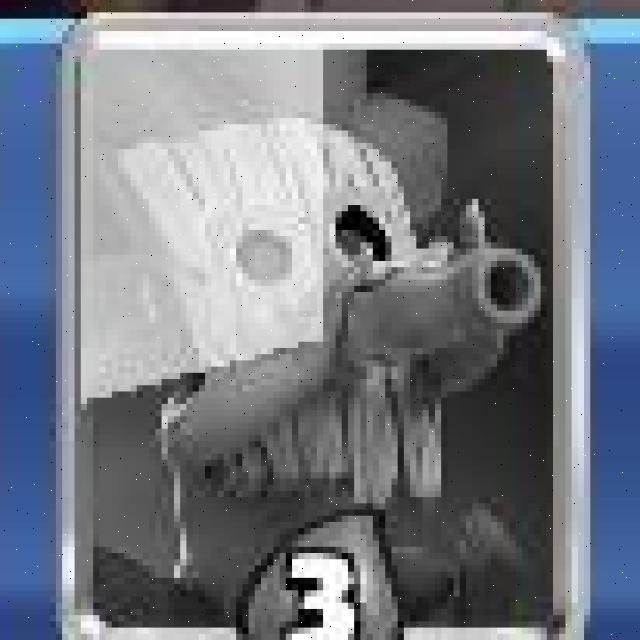Dart_Goblin: (51, 12, 582, 640)
